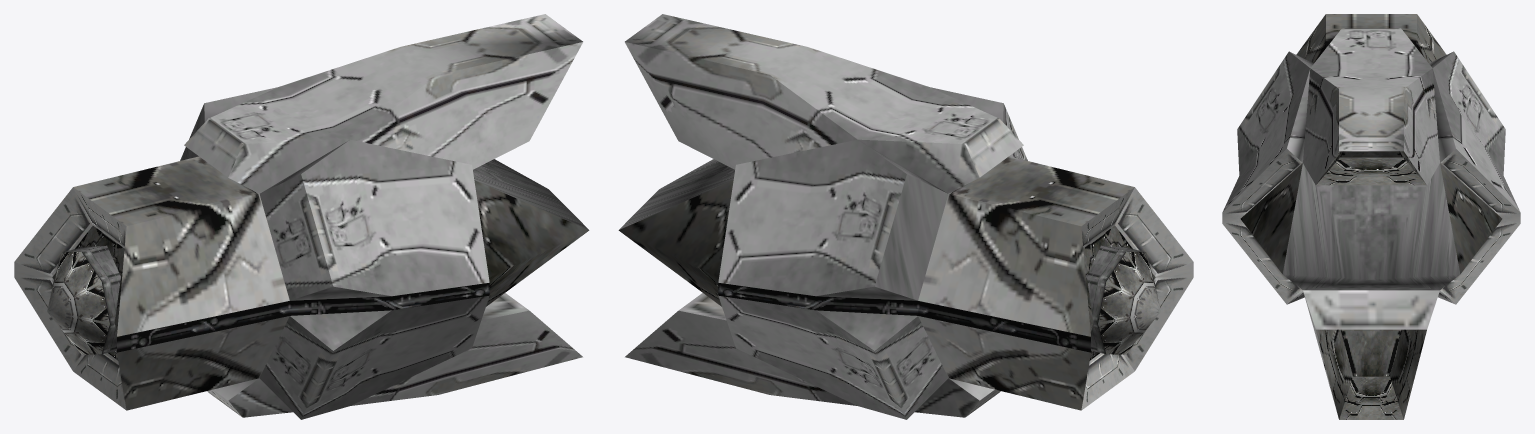
File: spe01a.obj
3 views of the same model, side by side, from view 1: azimuth 30°, elevation 25°; view 2: azimuth 150°, elevation 25°; view 3: azimuth 270°, elevation 25° (orthographic). The views are drawn at different scales.
Parts seen in each view (by area): view 1: BODY000, BODY010; view 2: BODY000, BODY010; view 3: BODY000.
Part boxes in pixels (x1,y1,x2,y2): BODY000: (14, 14, 589, 419); BODY010: (47, 245, 120, 354); BODY000: (618, 14, 1193, 419); BODY010: (1087, 245, 1160, 354); BODY000: (1222, 14, 1520, 419).
Bounding box in the file's own units: 18.06 × 10.68 × 10.59.
2 materials, 2 textured.
